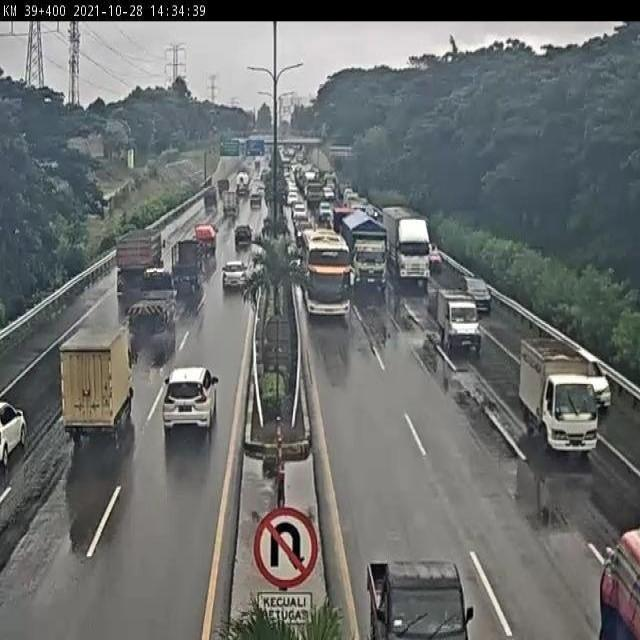Bus: (301, 229, 355, 323)
Car: (162, 368, 218, 431), (0, 400, 26, 467), (580, 365, 610, 411), (464, 277, 492, 315), (221, 260, 249, 289), (294, 221, 314, 246), (234, 224, 254, 247), (428, 243, 442, 272), (318, 202, 333, 224), (293, 200, 306, 221), (250, 192, 262, 208), (323, 185, 334, 201), (286, 191, 298, 204)
Truck: (518, 335, 599, 453), (59, 325, 139, 440), (365, 555, 473, 640), (599, 531, 640, 638), (381, 204, 432, 286), (341, 207, 390, 288), (434, 290, 482, 358), (126, 266, 178, 328), (114, 227, 166, 289), (170, 240, 206, 294), (193, 222, 219, 256), (307, 182, 323, 205), (222, 190, 237, 214), (203, 186, 218, 208), (236, 170, 249, 194), (217, 178, 230, 195)
